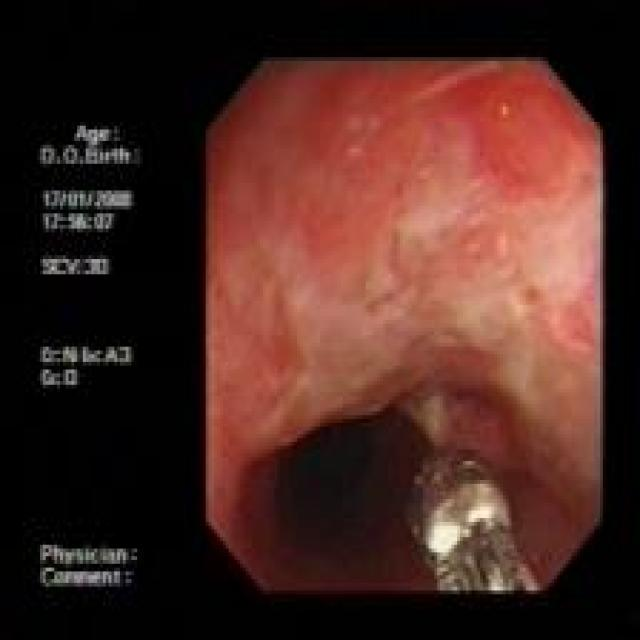color misalignment: (38, 117, 142, 588)
contrast: (249, 392, 425, 590), (512, 472, 596, 588)
instrument: (403, 444, 540, 591)
specularity: (423, 518, 464, 556), (465, 499, 498, 523)
